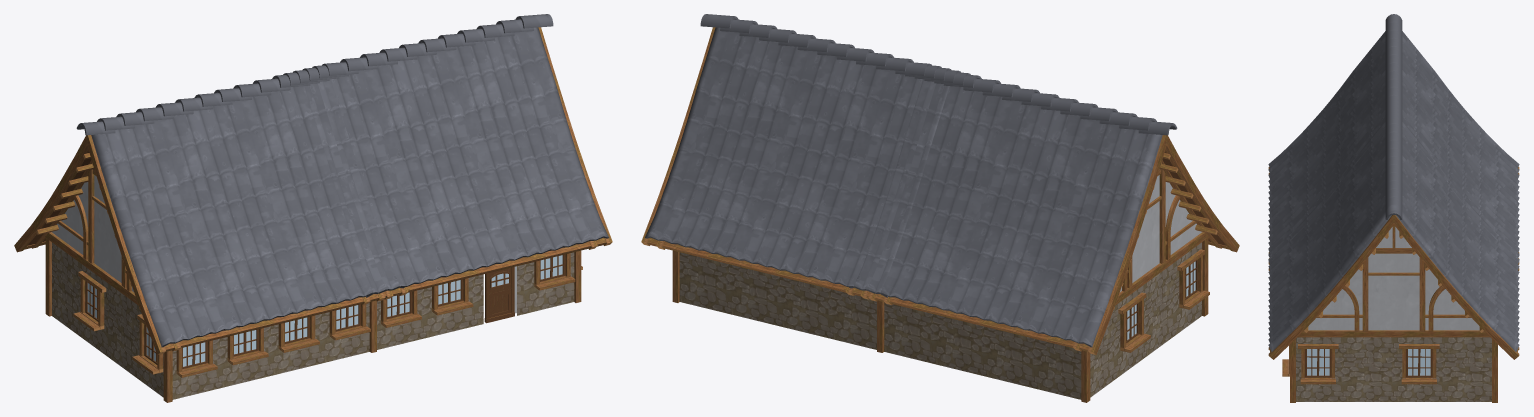
The model's file is data_center.glb.
3 renders of one model, left to right at view 1: azimuth 30°, elevation 25°; view 2: azimuth 150°, elevation 25°; view 3: azimuth 270°, elevation 25°, orthographic. The views are drawn at different scales.
Visible parts, largest first — view 1: Roof_RoundTiles_8x8, Wall_UnevenBrick_Window_Wide_Flat, Window_Wide_Flat1, Wall_UnevenBrick_Straight; view 2: Roof_RoundTiles_8x8, Wall_UnevenBrick_Straight, Wall_UnevenBrick_Window_Wide_Flat, Window_Wide_Flat1; view 3: Roof_RoundTiles_8x8, Wall_UnevenBrick_Straight, Window_Wide_Flat1, Wall_UnevenBrick_Window_Wide_Flat.
Boxes of the visible parts, x1,y1,x2,y2 form: Roof_RoundTiles_8x8: (76, 14, 608, 347); Wall_UnevenBrick_Window_Wide_Flat: (14, 27, 612, 399); Window_Wide_Flat1: (36, 153, 582, 402); Wall_UnevenBrick_Straight: (52, 175, 525, 378); Roof_RoundTiles_8x8: (645, 14, 1177, 347); Wall_UnevenBrick_Straight: (679, 175, 1201, 399); Wall_UnevenBrick_Window_Wide_Flat: (641, 27, 1239, 378); Window_Wide_Flat1: (672, 153, 1217, 402); Roof_RoundTiles_8x8: (1268, 14, 1519, 351); Wall_UnevenBrick_Straight: (1308, 227, 1491, 401); Window_Wide_Flat1: (1282, 225, 1497, 402); Wall_UnevenBrick_Window_Wide_Flat: (1268, 167, 1519, 401).
Size of the model in its own units: 18.33 by 9 by 9.95.
Materials: 5 (4 with a texture image).
